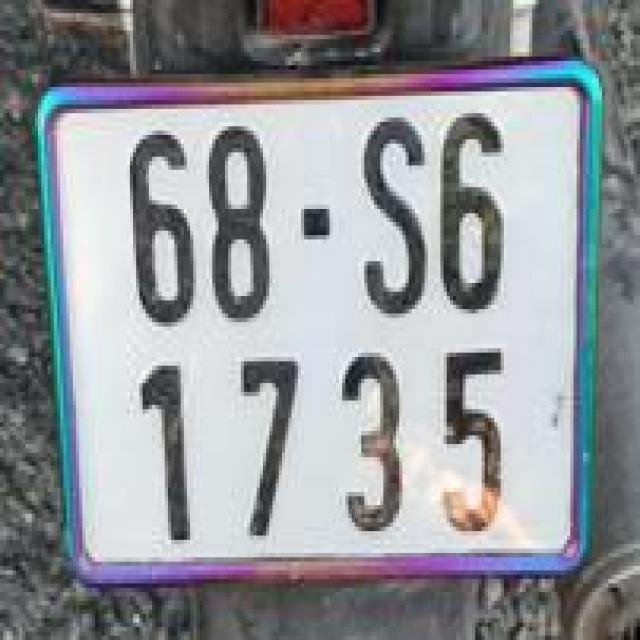1: (127, 352, 215, 548)
3: (331, 344, 414, 549)
5: (431, 333, 513, 546)
6: (119, 120, 204, 337), (431, 96, 510, 318)
7: (228, 340, 304, 548)
8: (198, 111, 284, 324)
S: (357, 103, 432, 324)
